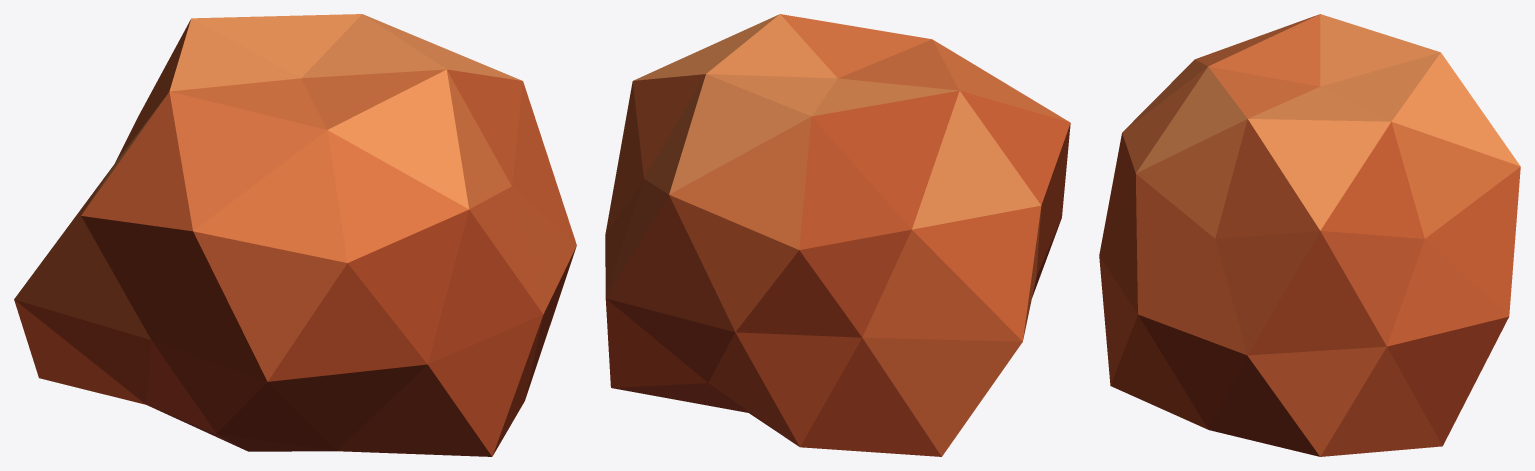
The model's file is SM_BOULDER_03.fbx.
3 views of the same model, side by side, from view 1: azimuth 30°, elevation 25°; view 2: azimuth 150°, elevation 25°; view 3: azimuth 270°, elevation 25° (orthographic). The views are drawn at different scales.
Parts seen in each view (by area): view 1: BOULDER_03; view 2: BOULDER_03; view 3: BOULDER_03.
Boxes of the visible parts, x1=… form: BOULDER_03: x1=14, y1=14, x2=576, y2=456; BOULDER_03: x1=605, y1=14, x2=1070, y2=456; BOULDER_03: x1=1099, y1=14, x2=1520, y2=456.
Bounding box in the file's own units: 2.9 × 2.54 × 2.
